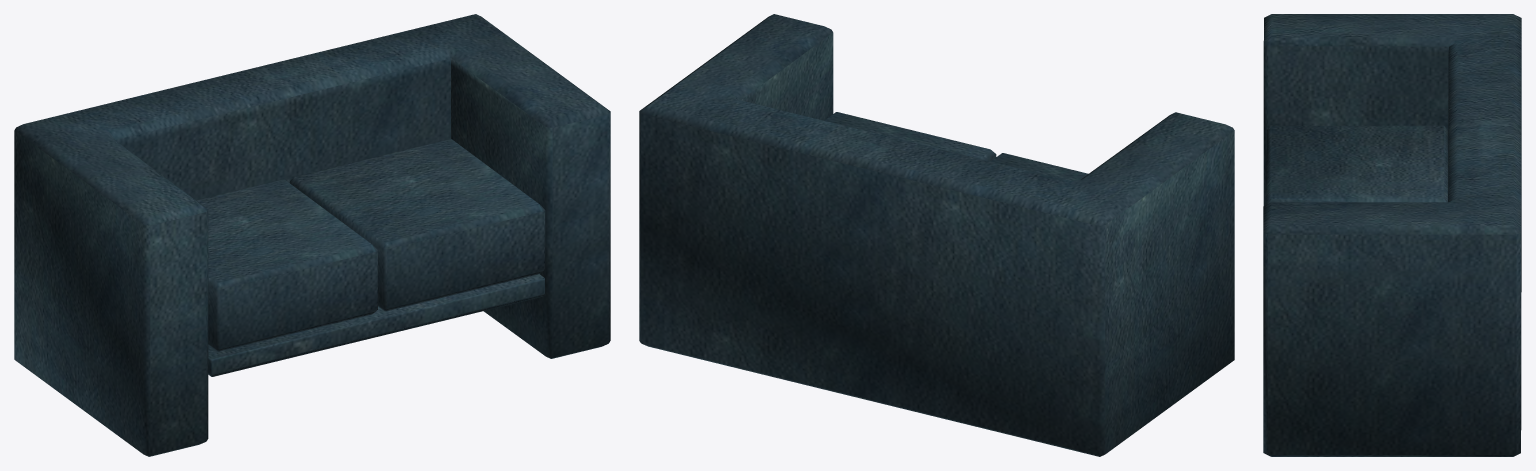
File: NY_2Sit_blue.FBX
The picture shows the model from 3 angles, left to right: view 1: azimuth 30°, elevation 25°; view 2: azimuth 150°, elevation 25°; view 3: azimuth 270°, elevation 25°; orthographic projection. The views are drawn at different scales.
Parts seen in each view (by area): view 1: fauteuil253; view 2: fauteuil253; view 3: fauteuil253.
Boxes of the visible parts, box(x1,y1,x2,y2) form: fauteuil253: box(14, 14, 610, 456); fauteuil253: box(639, 14, 1234, 456); fauteuil253: box(1263, 14, 1521, 456).
Bounding box in the file's own units: 1.69 × 0.8312 × 0.8423.
